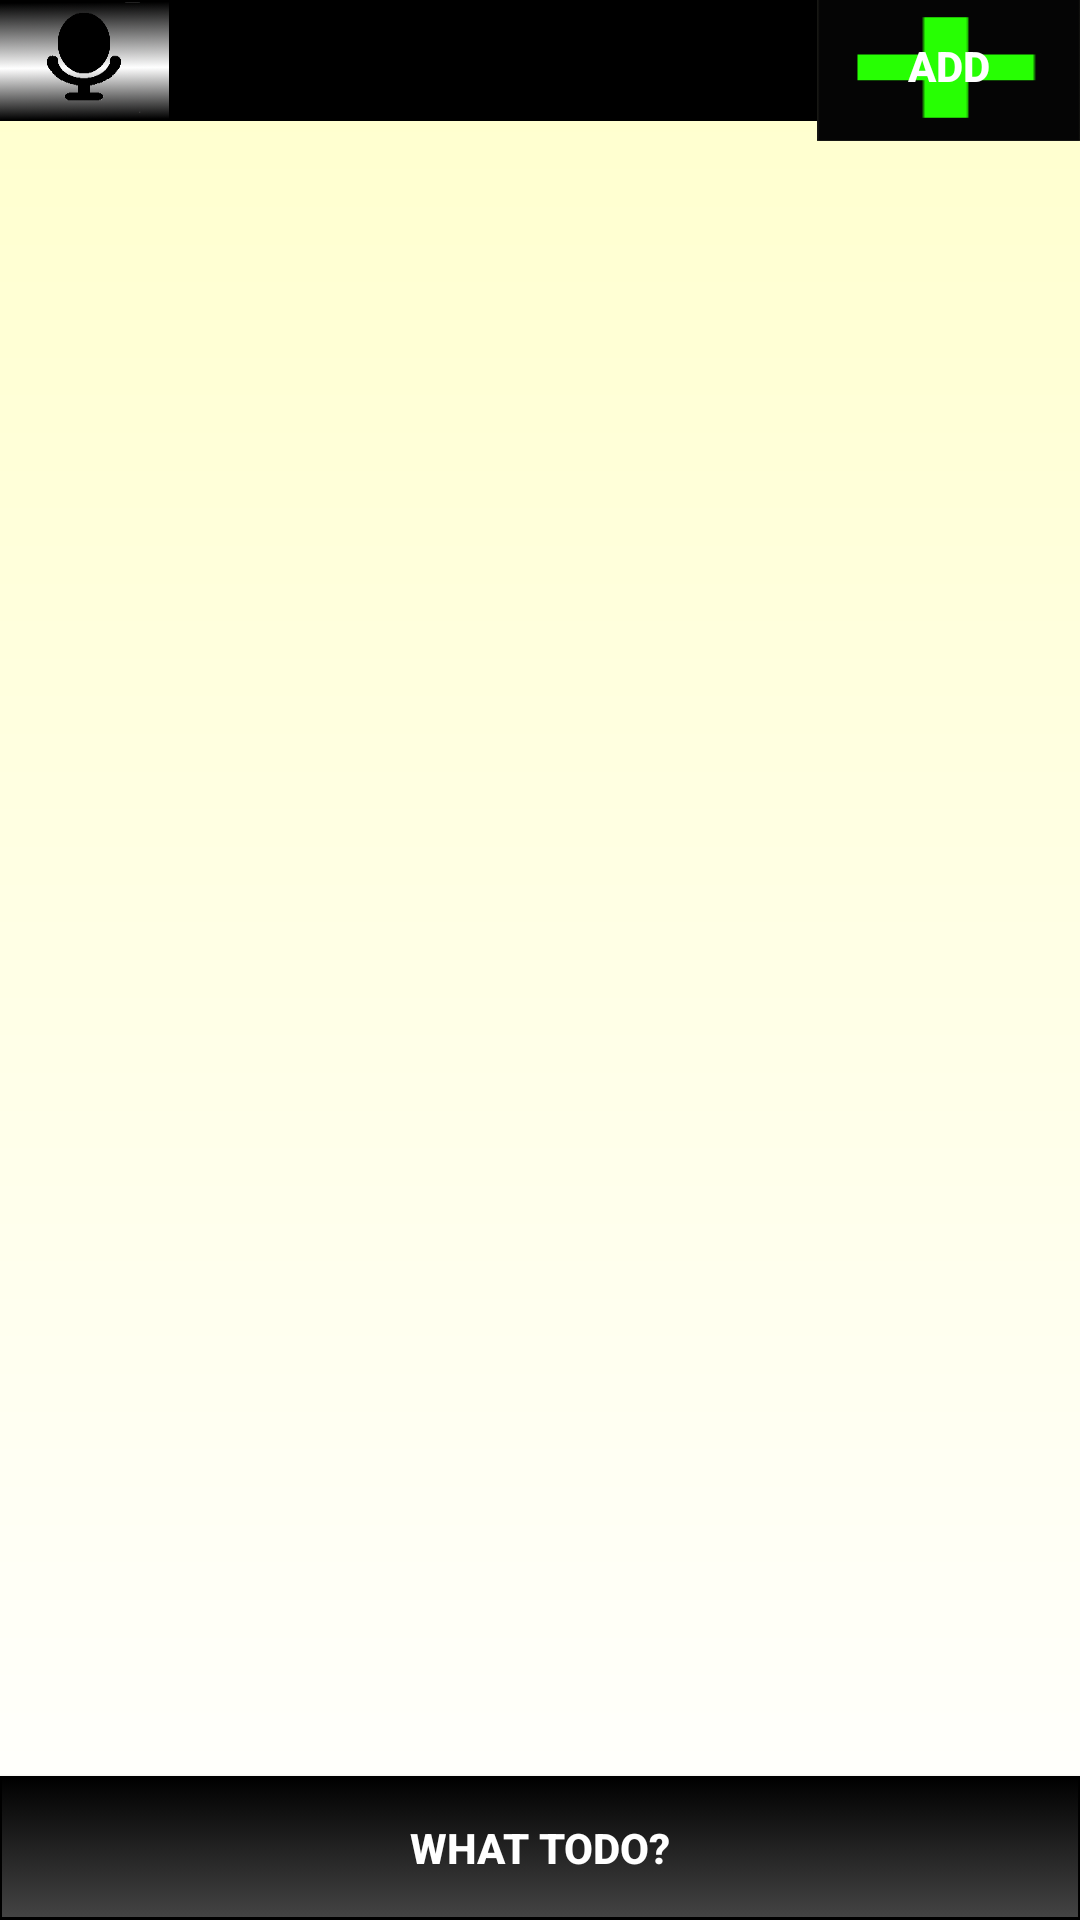

Screen size 1080×1920. Icon name, then its center in pixels as (x=x, y=y):
stt mic: (x=84, y=60)
